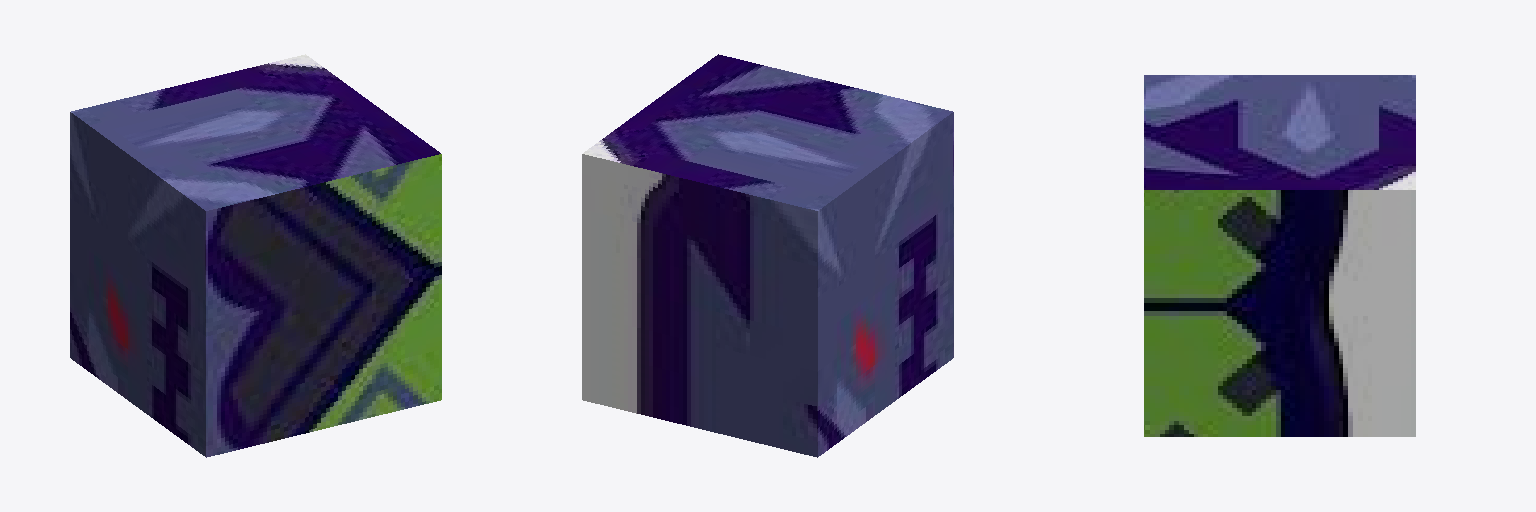
The picture shows the model from 3 angles: view 1: azimuth 30°, elevation 25°; view 2: azimuth 150°, elevation 25°; view 3: azimuth 270°, elevation 25°; orthographic projection.
Parts seen in each view (by area): view 1: Cube; view 2: Cube; view 3: Cube.
Boxes of the visible parts, x1=… form: Cube: x1=70, y1=54, x2=441, y2=457; Cube: x1=582, y1=54, x2=953, y2=457; Cube: x1=1144, y1=75, x2=1415, y2=436.
Bounding box in the file's own units: 2 × 2 × 2.
Materials: 1 (1 with a texture image).